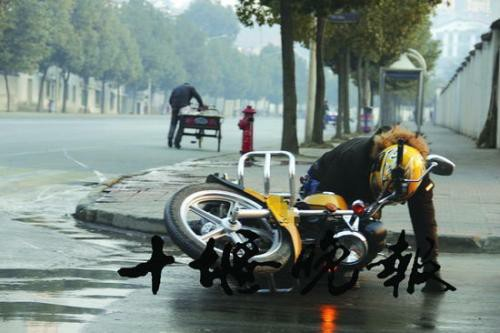fall: (286, 120, 464, 286)
